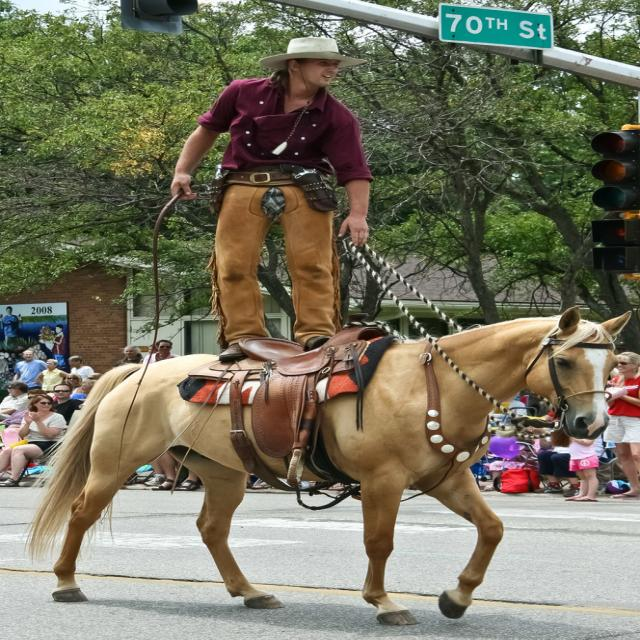Person: (0, 306, 640, 499), (171, 37, 378, 361)
